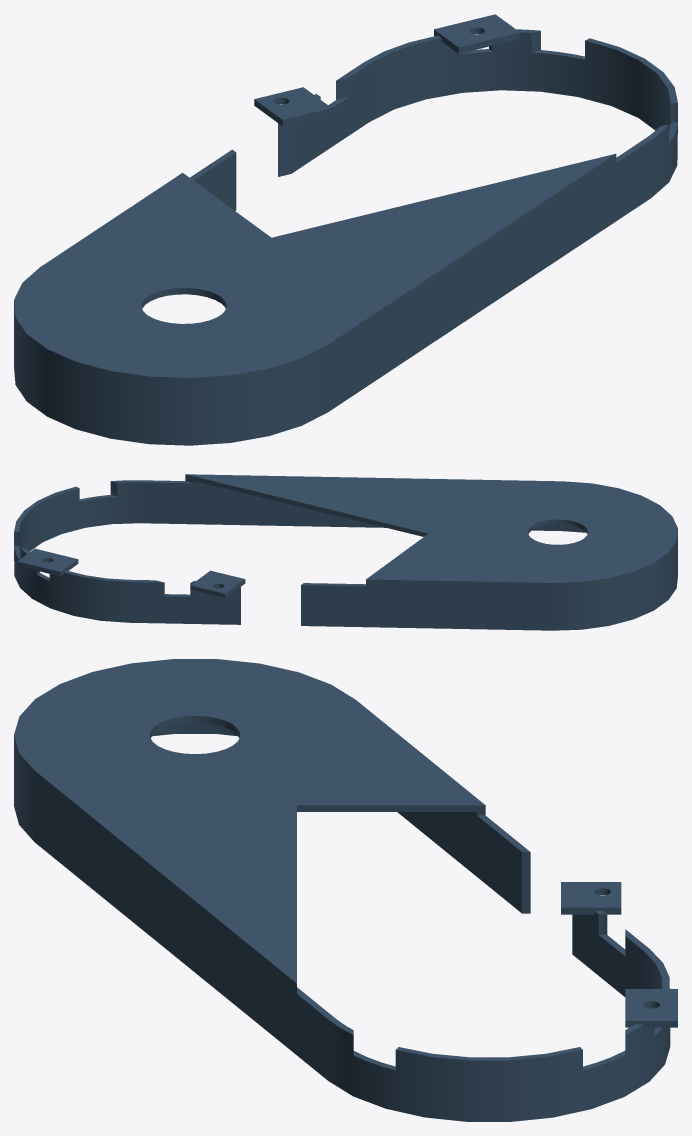
Rendered from milling-spindle-belt-guard.glb.
3 views of the same model, one above another, from view 1: azimuth 30°, elevation 25°; view 2: azimuth 150°, elevation 25°; view 3: azimuth 270°, elevation 25° (orthographic). The views are drawn at different scales.
Bounding box in the file's own units: 0.2454 × 0.021 × 0.176.
